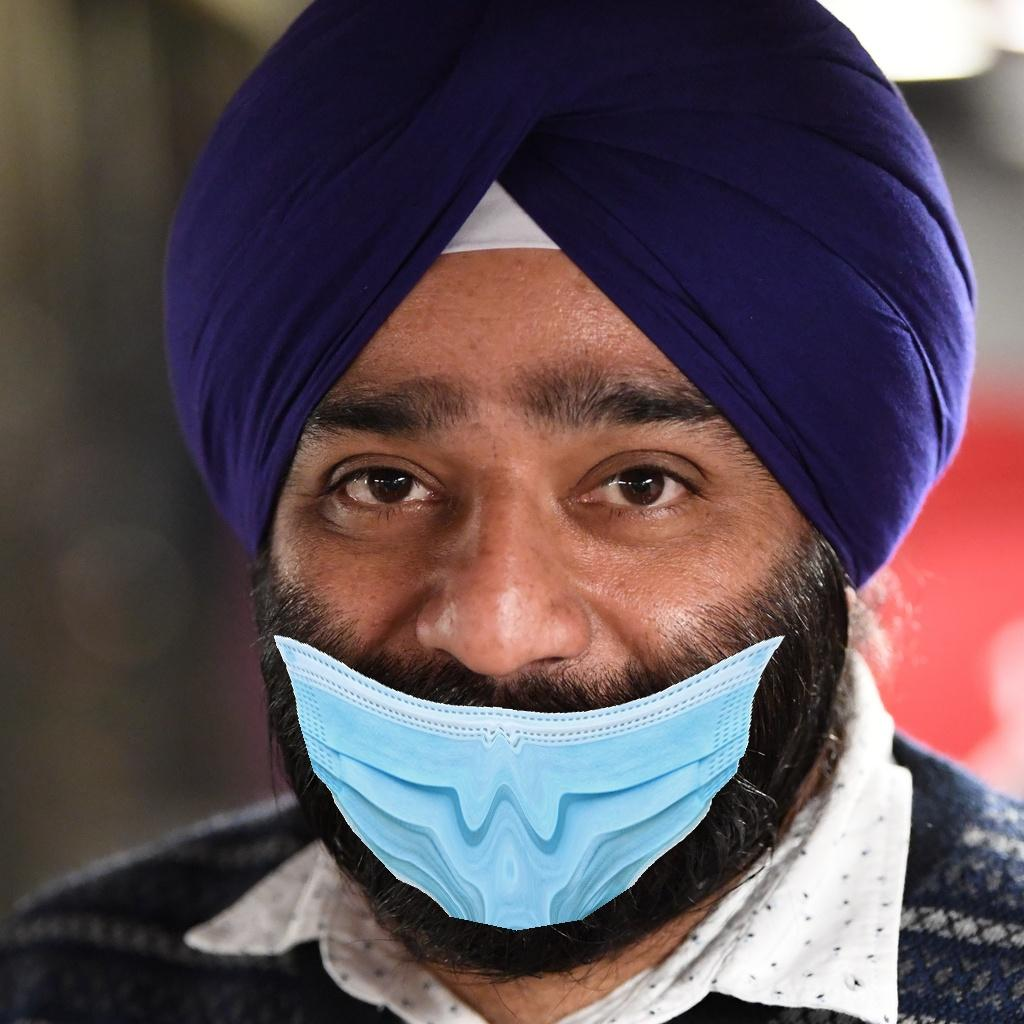Máscara Incorreta: (229, 308, 826, 913)
